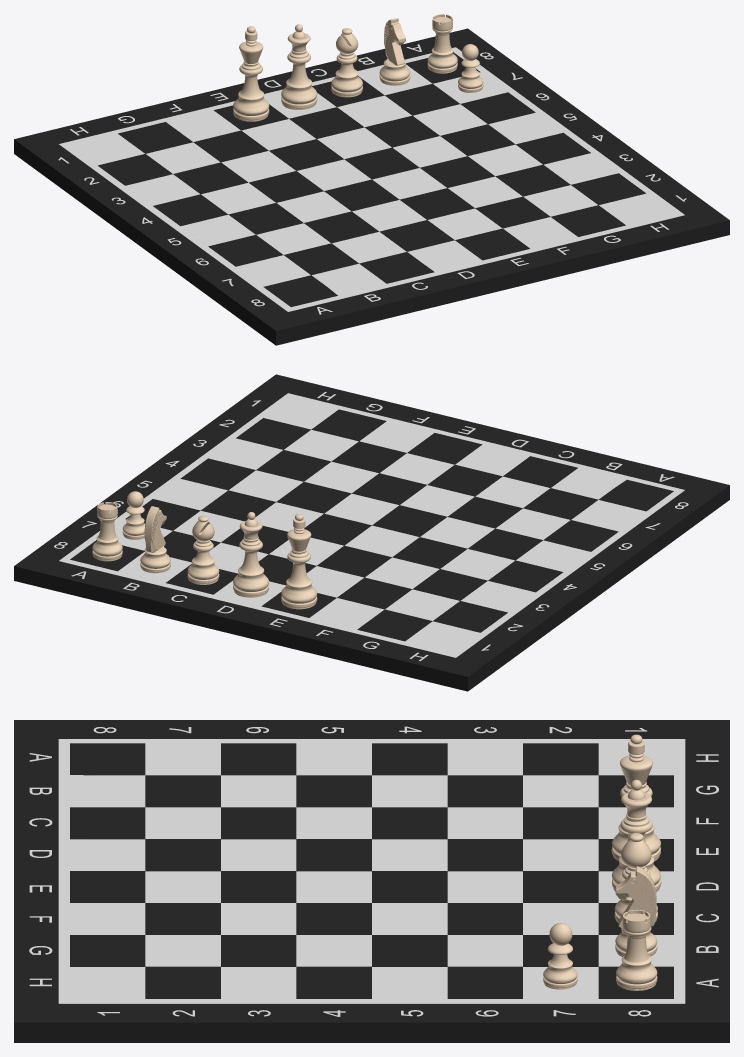
Rendered from Chess .fbx.
3 renders of one model, top to bottom at view 1: azimuth 30°, elevation 25°; view 2: azimuth 150°, elevation 25°; view 3: azimuth 270°, elevation 25°, orthographic. The views are drawn at different scales.
Visible parts, largest first — view 1: Squares, Base, Body, Frame, King, Queen, Marks, Bishop, Knight, Rook, Pawn; view 2: Squares, Base, Body, Frame, King, Queen, Marks, Bishop, Knight, Rook, Pawn; view 3: Squares, Base, Body, Frame, Marks, Rook, Knight, King, Queen, Pawn, Bishop.
Part boxes in pixels (x1,y1,x2,y2): Squares: (98, 52, 645, 306); Base: (70, 64, 673, 295); Body: (14, 28, 729, 345); Frame: (59, 47, 684, 311); King: (233, 26, 269, 121); Queen: (281, 24, 317, 109); Marks: (58, 44, 686, 314); Bishop: (331, 28, 362, 97); Knight: (379, 18, 410, 85); Rook: (427, 14, 457, 73); Pawn: (458, 44, 483, 92); Squares: (70, 409, 673, 641); Base: (114, 398, 645, 652); Body: (14, 374, 729, 691); Frame: (59, 393, 684, 657); King: (281, 514, 317, 609); Queen: (233, 512, 268, 597); Marks: (54, 392, 688, 661); Bishop: (187, 515, 219, 584); Knight: (140, 506, 170, 573); Rook: (92, 502, 122, 561); Pawn: (122, 491, 145, 539); Squares: (70, 743, 673, 998); Base: (70, 743, 673, 998); Body: (14, 720, 729, 1042); Frame: (58, 739, 685, 1003); Marks: (29, 726, 718, 1016); Rook: (616, 909, 657, 990); Knight: (615, 866, 657, 956); King: (611, 734, 660, 861); Queen: (612, 779, 661, 892); Pawn: (543, 922, 577, 989); Bishop: (614, 833, 657, 922).
Size of the model in its own units: 948 by 204 by 948.
